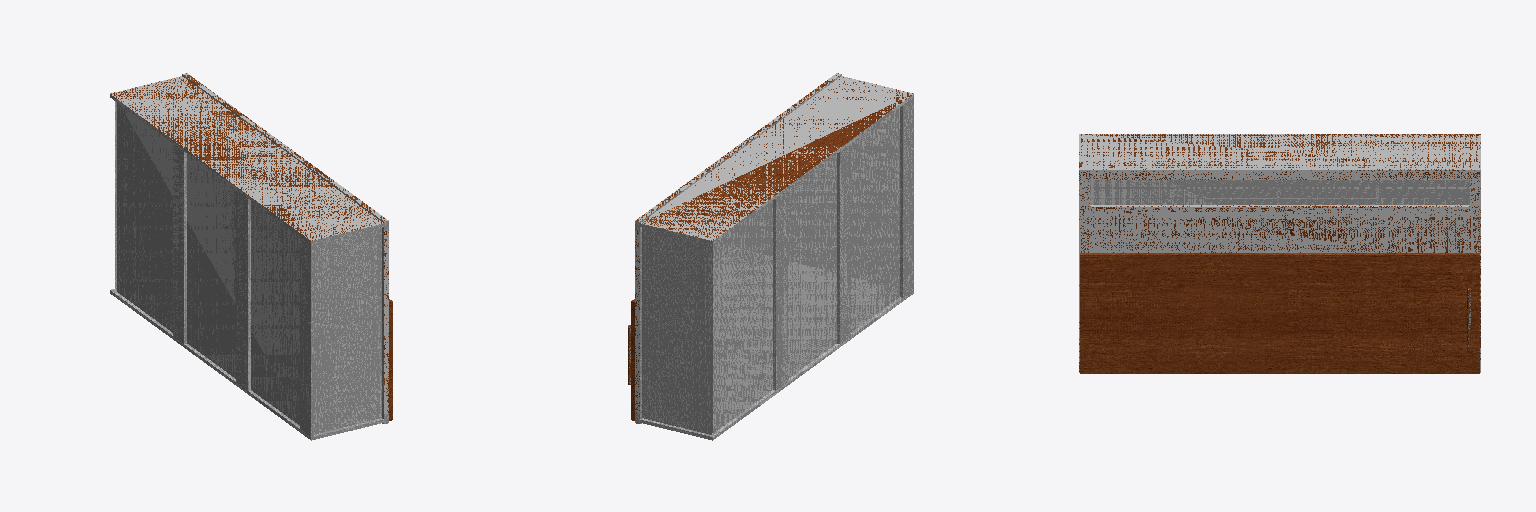
3 renders of one model, left to right at view 1: azimuth 30°, elevation 25°; view 2: azimuth 150°, elevation 25°; view 3: azimuth 270°, elevation 25°, orthographic.
Visible parts, largest first — view 1: mesh6.001_mesh6-geometry, mesh8.001_mesh8-geometry, mesh2.002_mesh2-geometry, mesh3.002_mesh3-geometry, mesh3.001_mesh3-geometry, mesh3.003_mesh3-geometry, mesh7.001_mesh7-geometry, mesh9.001_mesh9-geometry, mesh4.002_mesh4-geometry; view 2: mesh6.001_mesh6-geometry, mesh8.001_mesh8-geometry, mesh1.001_mesh1-geometry, mesh3.003_mesh3-geometry, mesh3.002_mesh3-geometry, mesh3.001_mesh3-geometry, mesh7.001_mesh7-geometry, mesh9.001_mesh9-geometry, mesh4.001_mesh4-geometry; view 3: mesh16.002_mesh16-geometry, mesh11.001_mesh11-geometry, mesh8.001_mesh8-geometry, mesh5.001_mesh5-geometry, mesh9.001_mesh9-geometry, mesh4.002_mesh4-geometry, mesh4.001_mesh4-geometry.
Boxes of the visible parts, box(x1,y1,x2,y2) form: mesh6.001_mesh6-geometry: box(117, 103, 299, 425); mesh8.001_mesh8-geometry: box(110, 76, 383, 243); mesh2.002_mesh2-geometry: box(314, 227, 381, 434); mesh3.002_mesh3-geometry: box(236, 190, 250, 390); mesh3.001_mesh3-geometry: box(300, 237, 313, 436); mesh3.003_mesh3-geometry: box(173, 144, 186, 343); mesh7.001_mesh7-geometry: box(110, 289, 383, 440); mesh9.001_mesh9-geometry: box(182, 73, 388, 231); mesh4.002_mesh4-geometry: box(382, 231, 388, 413); mesh6.001_mesh6-geometry: box(713, 108, 899, 433); mesh8.001_mesh8-geometry: box(640, 76, 913, 243); mesh1.001_mesh1-geometry: box(642, 227, 711, 434); mesh3.003_mesh3-geometry: box(773, 190, 787, 390); mesh3.002_mesh3-geometry: box(837, 144, 850, 343); mesh3.001_mesh3-geometry: box(900, 98, 913, 297); mesh7.001_mesh7-geometry: box(640, 290, 913, 440); mesh9.001_mesh9-geometry: box(635, 73, 841, 231); mesh4.001_mesh4-geometry: box(635, 231, 641, 413); mesh16.002_mesh16-geometry: box(1080, 253, 1479, 373); mesh11.001_mesh11-geometry: box(1090, 205, 1469, 252); mesh8.001_mesh8-geometry: box(1079, 134, 1480, 167); mesh5.001_mesh5-geometry: box(1090, 180, 1469, 204); mesh9.001_mesh9-geometry: box(1079, 168, 1480, 179); mesh4.002_mesh4-geometry: box(1079, 180, 1089, 362); mesh4.001_mesh4-geometry: box(1470, 180, 1480, 362).
Size of the model in its own units: 0.2229 by 0.4734 by 0.8522.
6 materials, 1 textured.